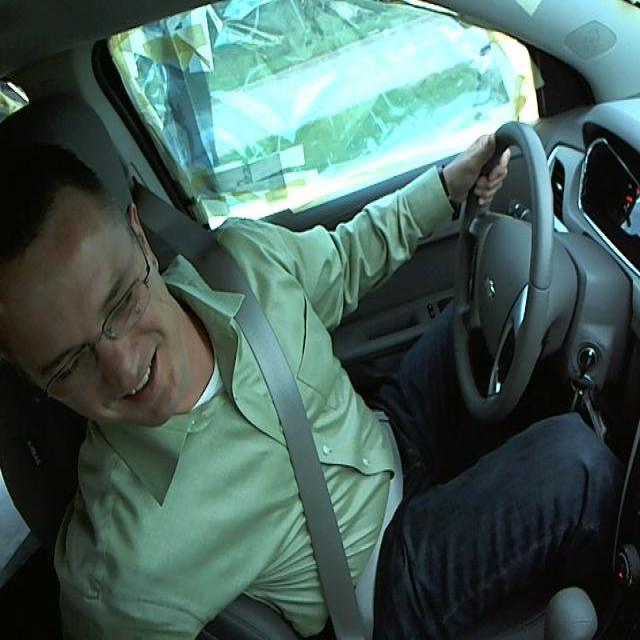seatbelt: (234, 312, 363, 607)
